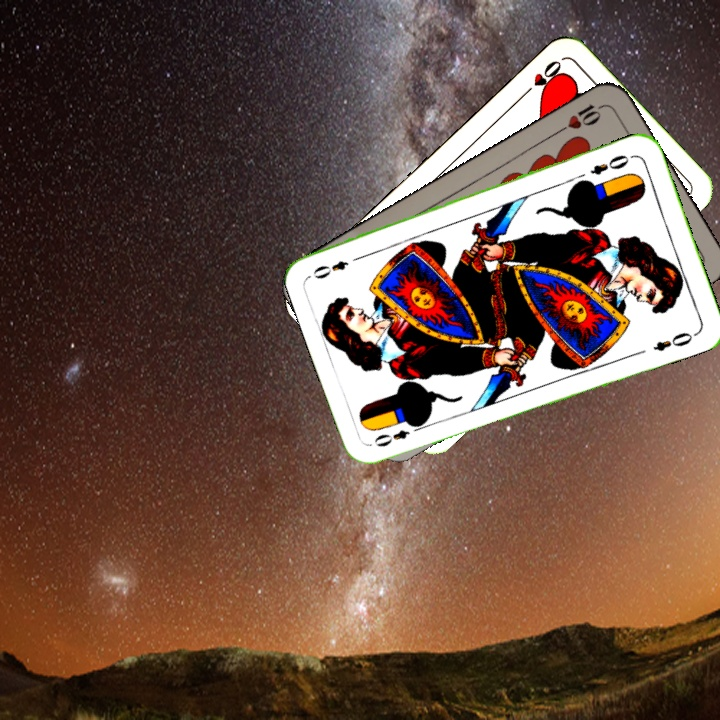EO: (370, 419, 425, 450), (586, 150, 637, 178)
H10: (553, 100, 607, 136)
HO: (517, 56, 564, 101)
